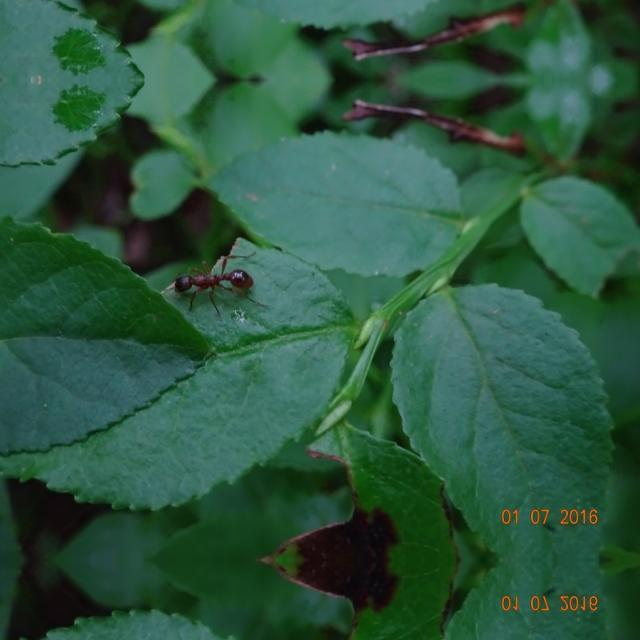Myrmica: (166, 247, 266, 306)
